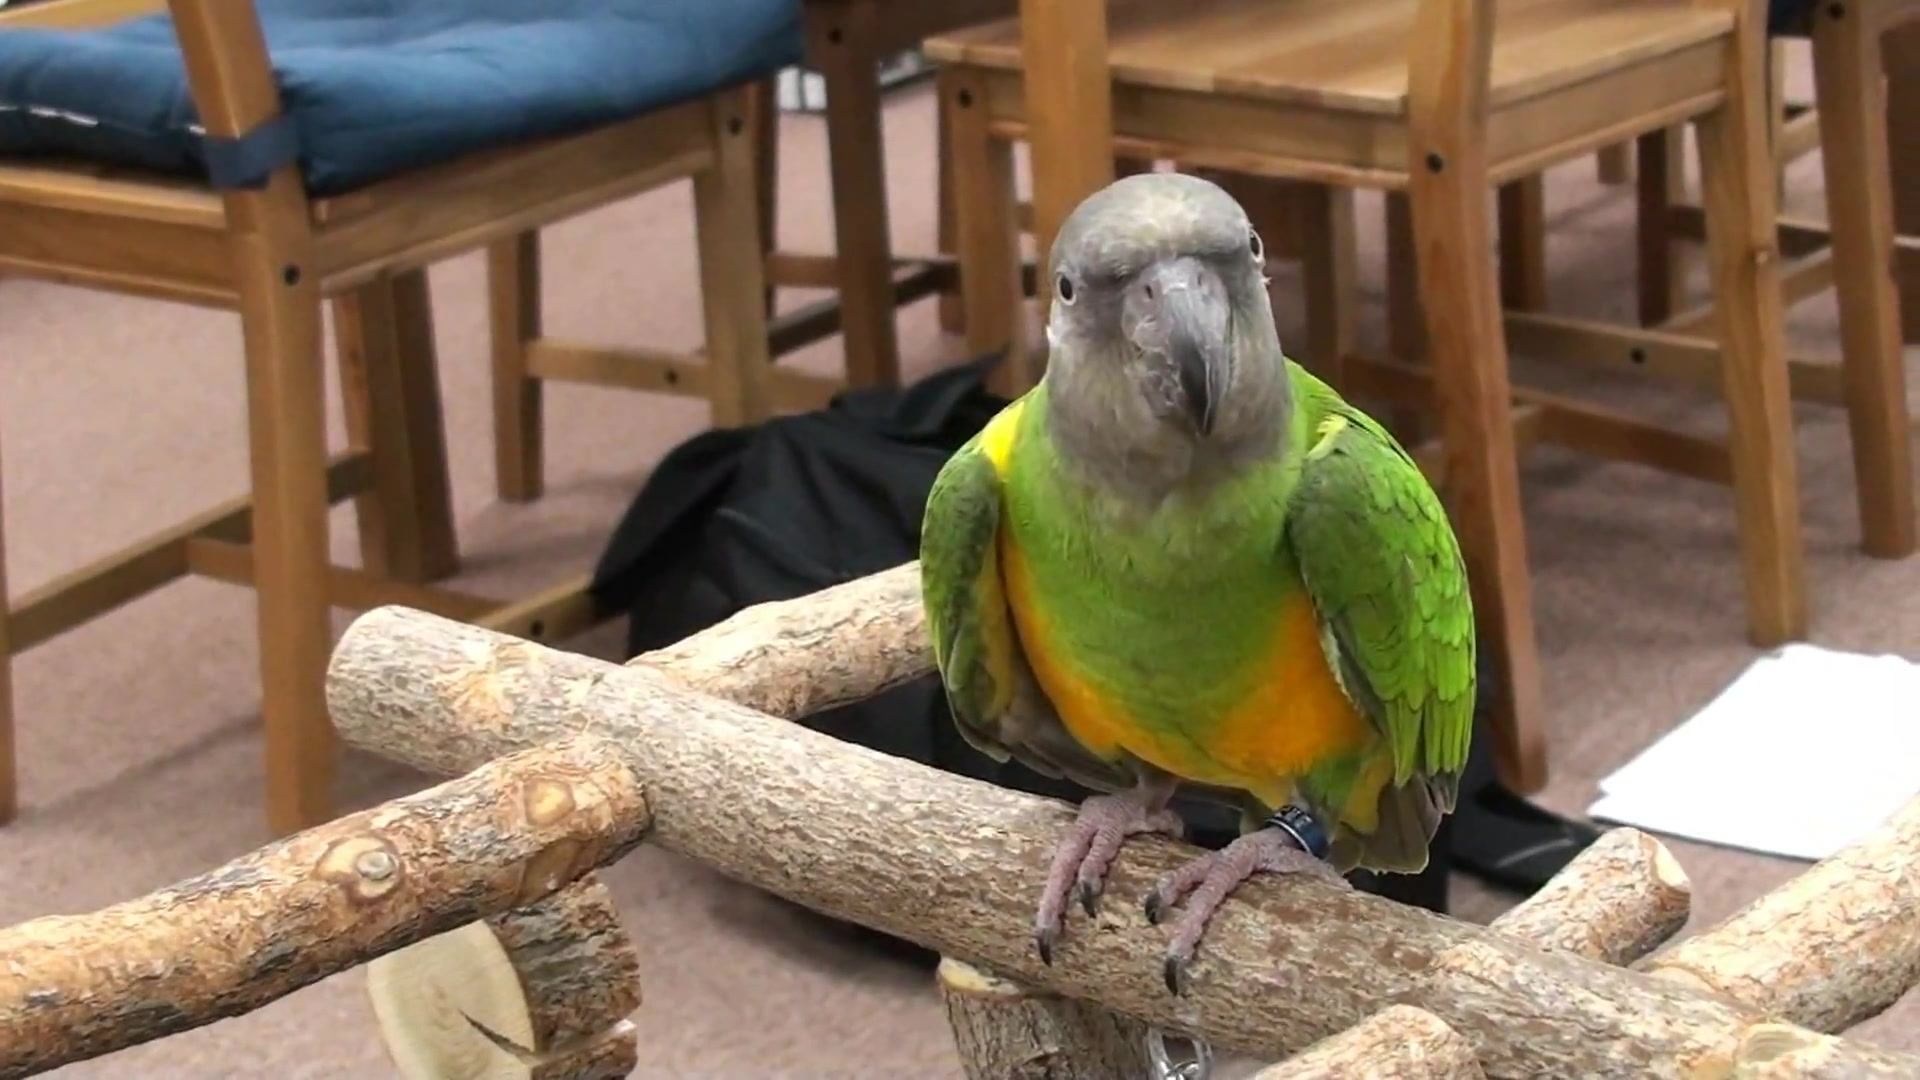bird: (919, 171, 1481, 996)
